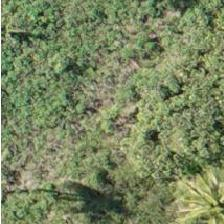coconut_tree: (174, 170, 223, 223)
